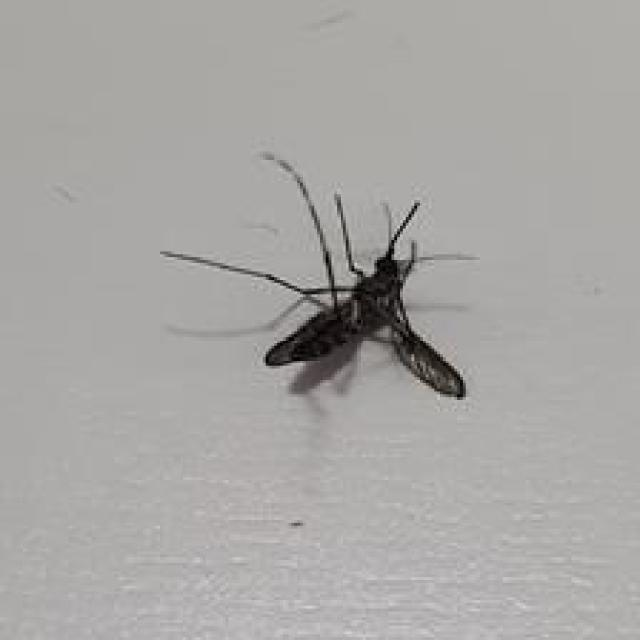Aedes albopictus: (158, 150, 478, 401)
